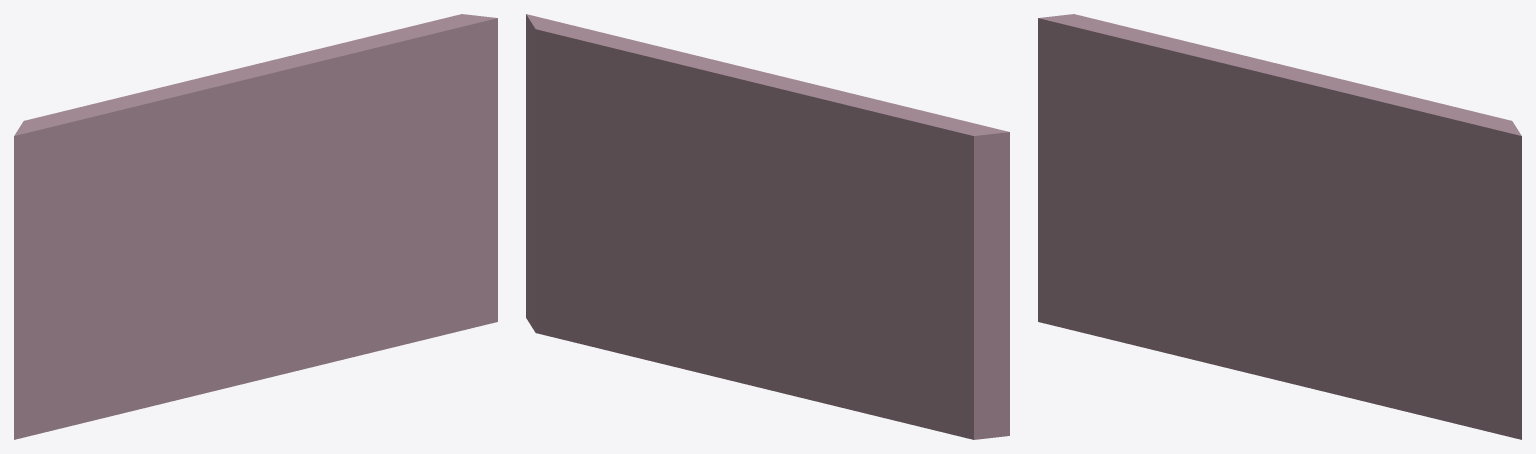
Rendered from Walls and Floors with Doors.fbx_CWall_Inner_Inner.fbx.
The picture shows the model from 3 angles, left to right: view 1: azimuth 30°, elevation 25°; view 2: azimuth 150°, elevation 25°; view 3: azimuth 330°, elevation 25°; orthographic projection.
Visible parts, largest first — view 1: CWall Inner Inner; view 2: CWall Inner Inner; view 3: CWall Inner Inner.
Boxes of the visible parts, left/top/right/bottom form: CWall Inner Inner: left=14, top=14, right=497, bottom=439; CWall Inner Inner: left=526, top=14, right=1009, bottom=439; CWall Inner Inner: left=1038, top=14, right=1521, bottom=439.
Size of the model in its own units: 1500 by 900 by 70.71.
